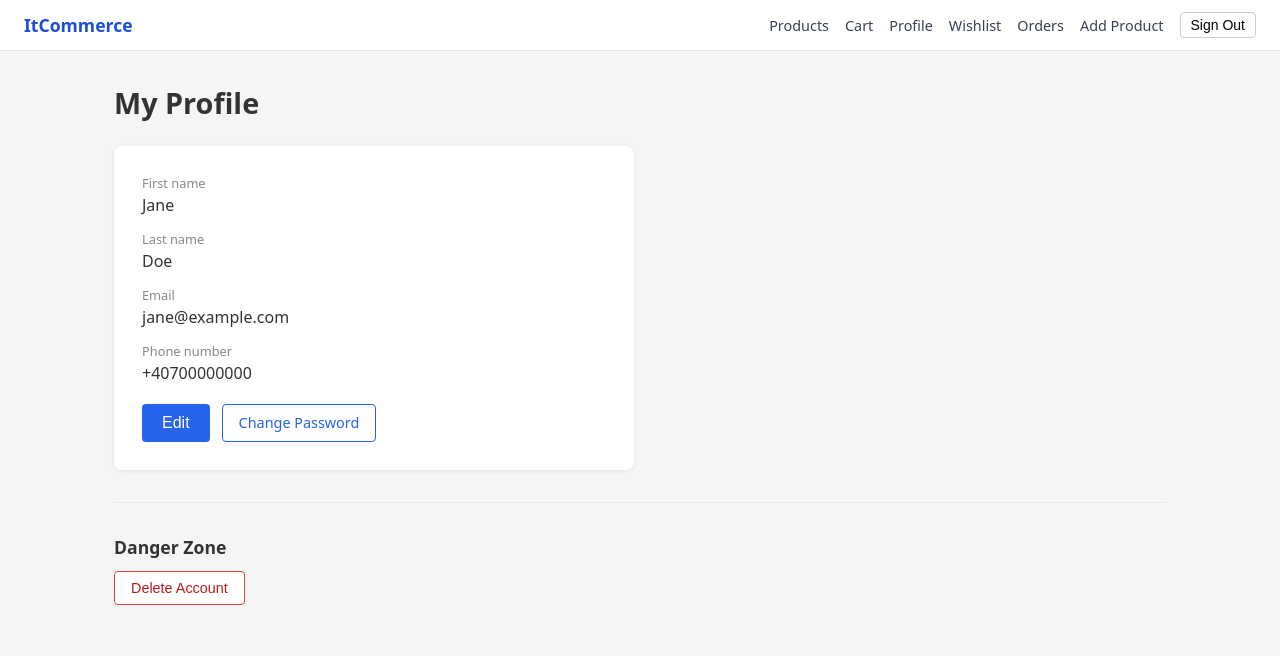
Test: Profile › edit profile › validates empty firstName
Click the button "Edit": (176, 423) [142,404,210,442]
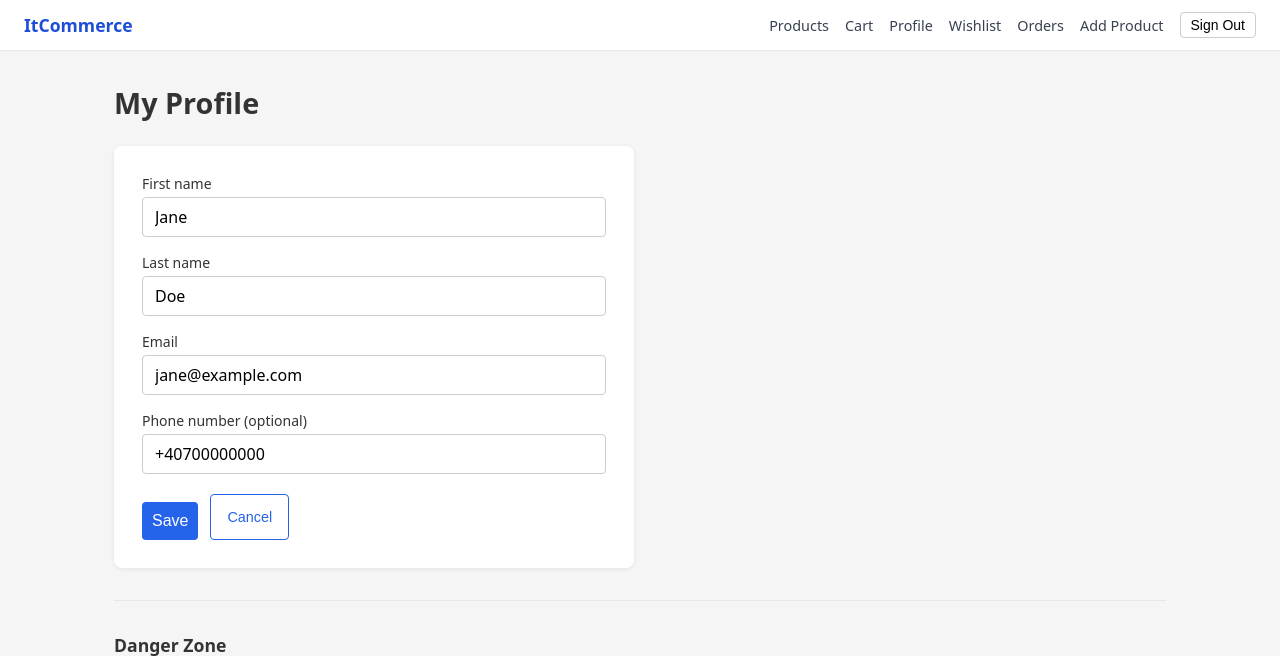
Clear the field labelled "First name": (374, 217) [142,197,606,237]
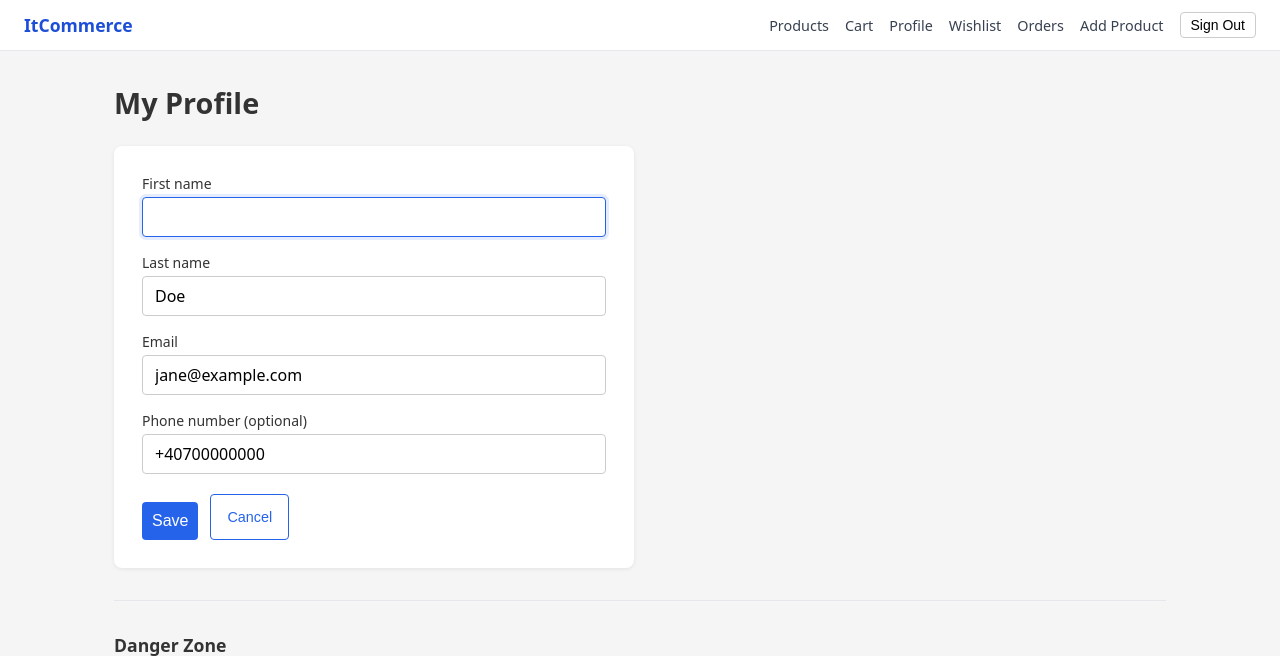
Click the button "Save": (170, 521) [142,502,198,540]
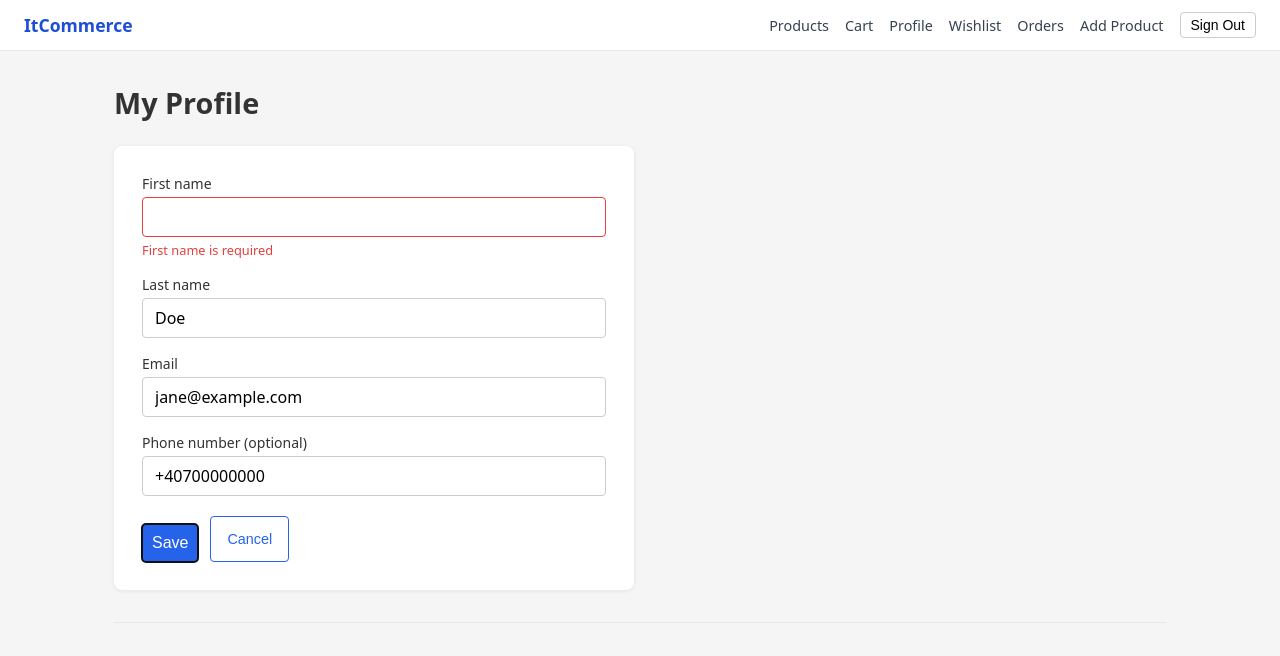
expect the text "First name is required" is shown: met, box [142,241,273,259]
